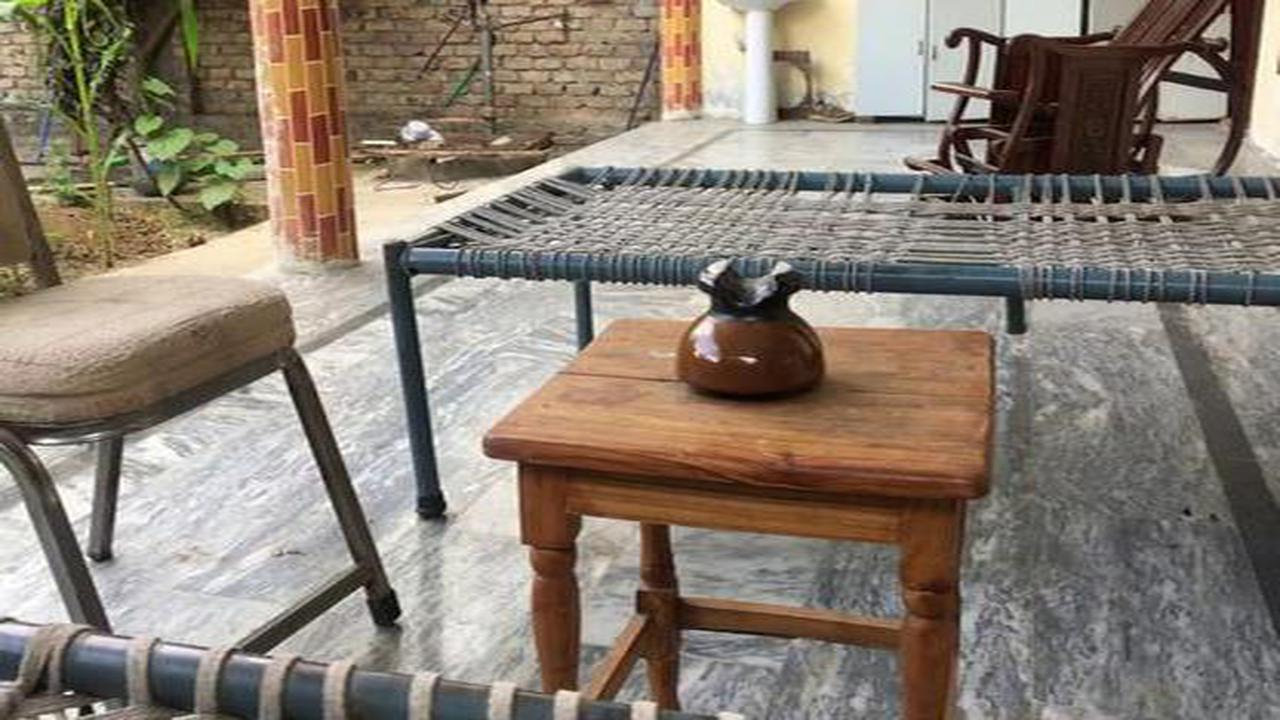insulator_pin: (653, 238, 856, 411)
